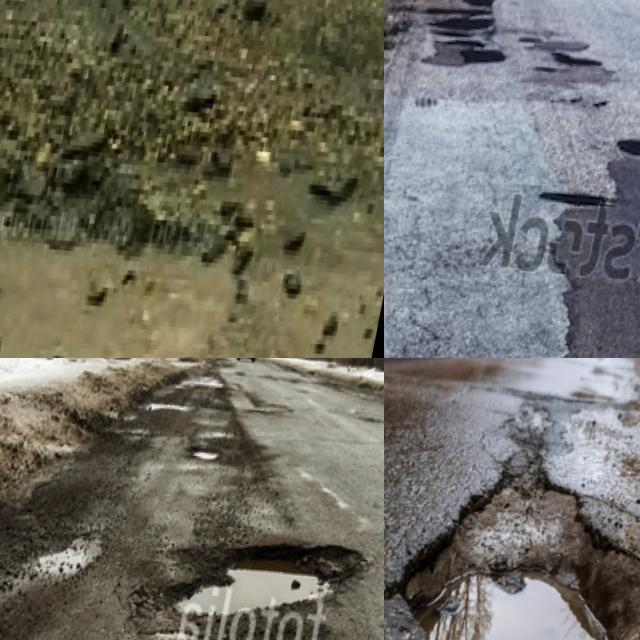Potholes: (0, 56, 322, 358), (384, 405, 640, 640), (118, 471, 384, 640), (2, 486, 145, 640), (557, 122, 640, 358), (401, 0, 519, 100), (164, 382, 265, 491)
